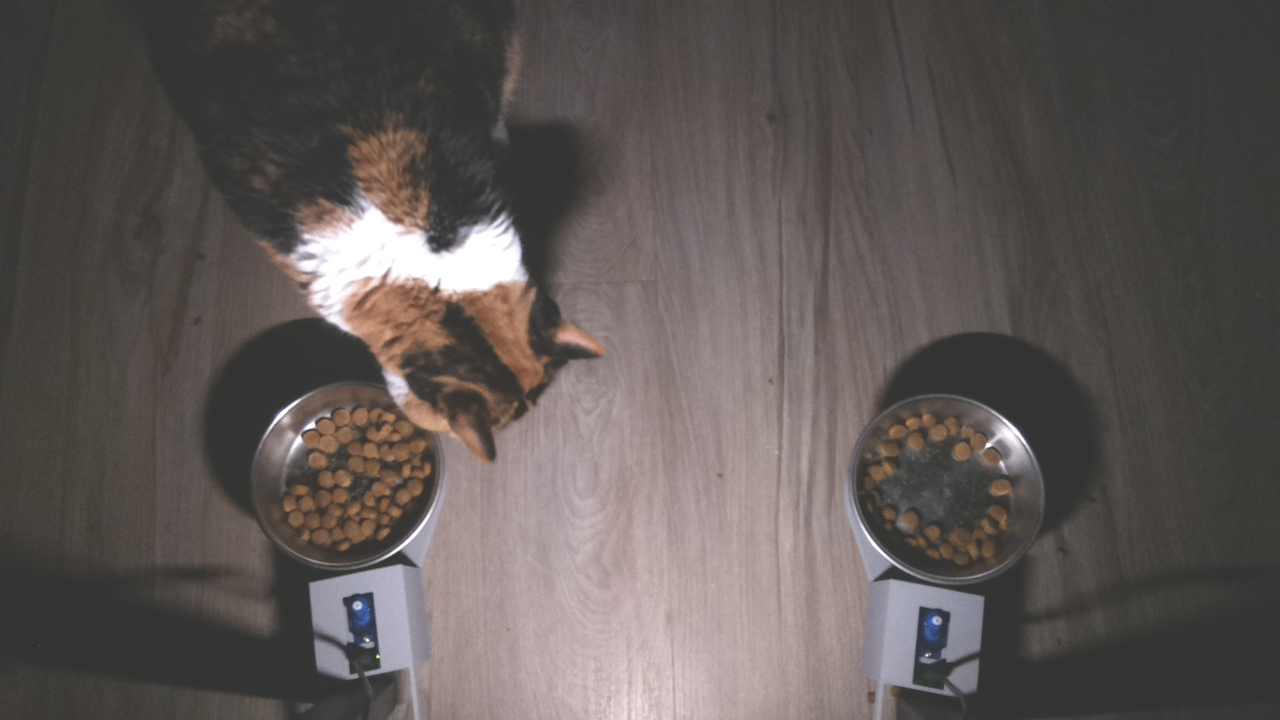bella: (272, 186, 608, 469)
open_bowl: (845, 391, 1051, 603), (236, 370, 449, 575)
